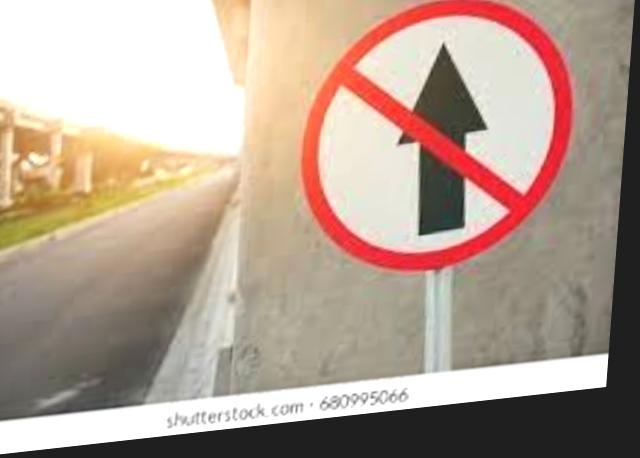not_go_straight: (292, 0, 588, 303)
